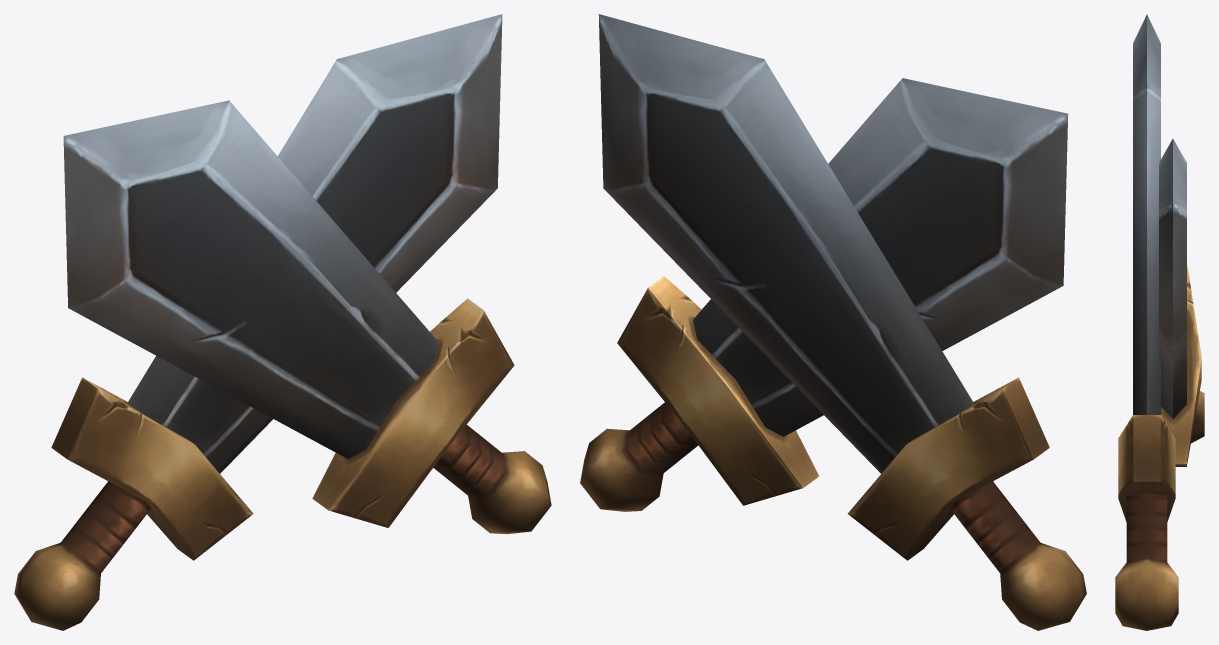
Rendered from 54_Sword.FBX.
3 renders of one model, left to right at view 1: azimuth 30°, elevation 25°; view 2: azimuth 150°, elevation 25°; view 3: azimuth 270°, elevation 25°, orthographic. The views are drawn at different scales.
Parts seen in each view (by area): view 1: Object016; view 2: Object016; view 3: Object016.
Part boxes in pixels (<box>): Object016: <box>14,14,551,630</box>; Object016: <box>580,14,1086,630</box>; Object016: <box>1115,14,1204,630</box>.
Size of the model in its own units: 52.68 by 49.63 by 9.31.
